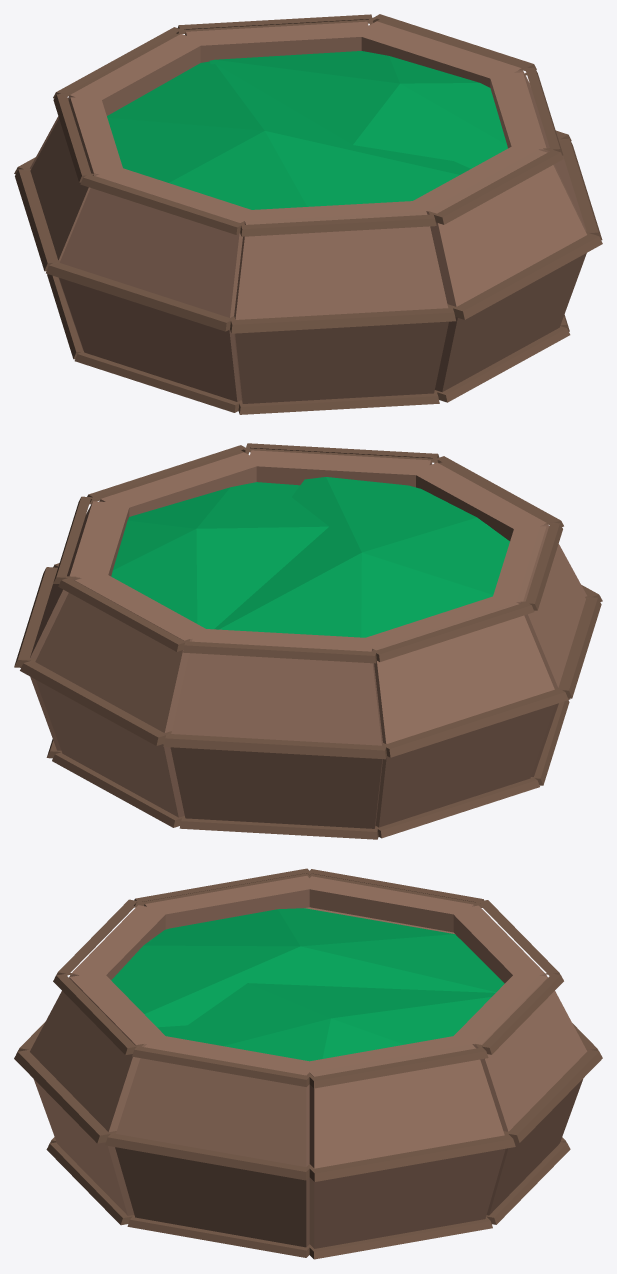
File: barrel-spice-05.obj
3 views of the same model, one above another, from view 1: azimuth 30°, elevation 25°; view 2: azimuth 150°, elevation 25°; view 3: azimuth 270°, elevation 25° (orthographic). The views are drawn at different scales.
Visible parts, largest first — view 1: barrel-spice-05; view 2: barrel-spice-05; view 3: barrel-spice-05.
Boxes of the visible parts, x1,y1,x2,y2 form: barrel-spice-05: (14,14,602,414); barrel-spice-05: (14,443,602,839); barrel-spice-05: (14,868,602,1259).
Size of the model in its own units: 0.4465 by 0.1508 by 0.4477.
